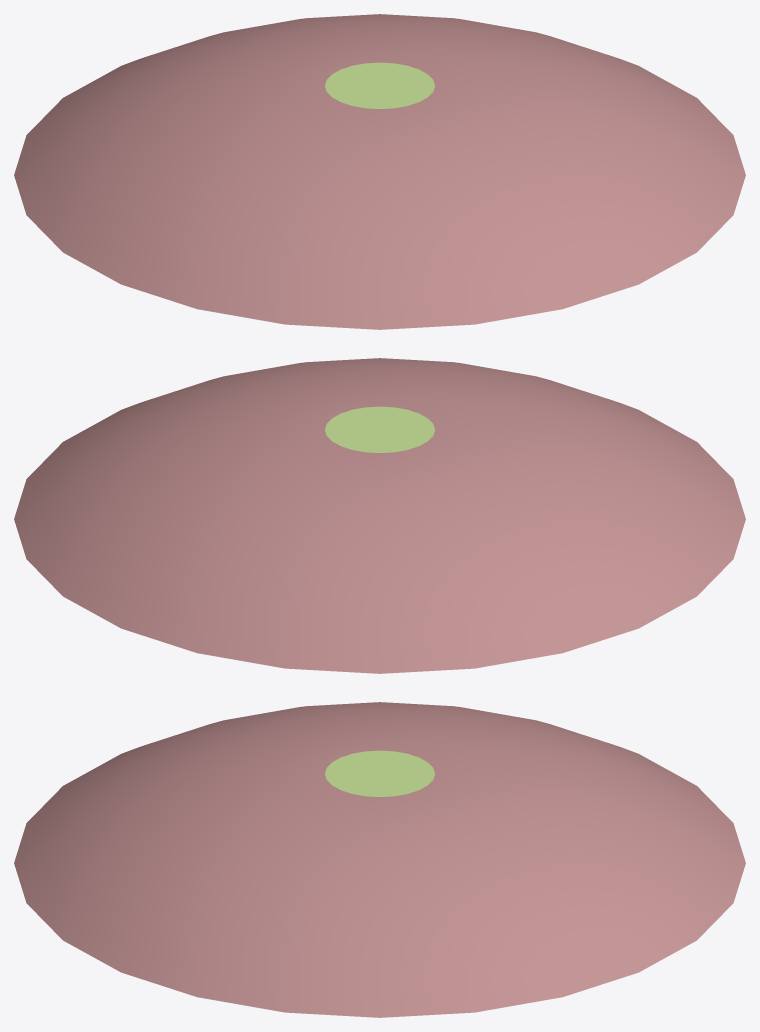
File: energyCore pt2.fbx
3 renders of one model, top to bottom at view 1: azimuth 30°, elevation 25°; view 2: azimuth 150°, elevation 25°; view 3: azimuth 270°, elevation 25°, orthographic.
Visible parts, largest first — view 1: Model; view 2: Model; view 3: Model.
Part boxes in pixels (x1,y1,x2,y2): Model: (14, 14, 745, 329); Model: (14, 358, 745, 673); Model: (14, 702, 745, 1017).
Bounding box in the file's own units: 2020 × 272 × 2020.
